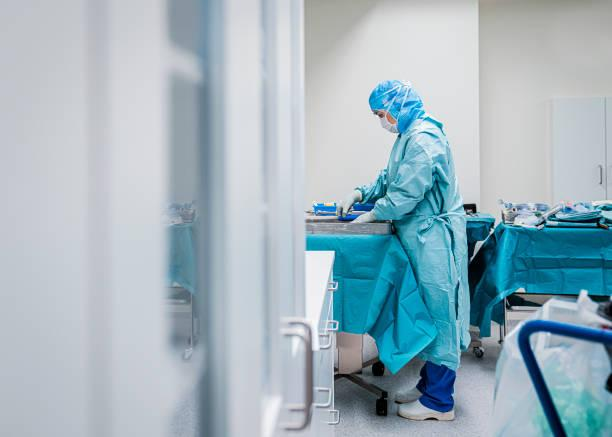Gloves On: (336, 190, 362, 217), (351, 210, 377, 223)
Goggles off: (373, 108, 389, 118)
Hairnet On: (369, 80, 424, 132)
Mask On: (379, 116, 399, 132)
Suit On: (359, 116, 470, 370)
